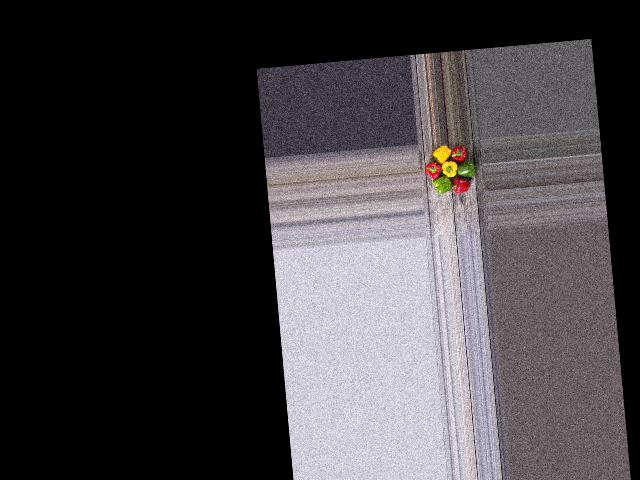bell_pepper: (447, 141, 467, 162)
